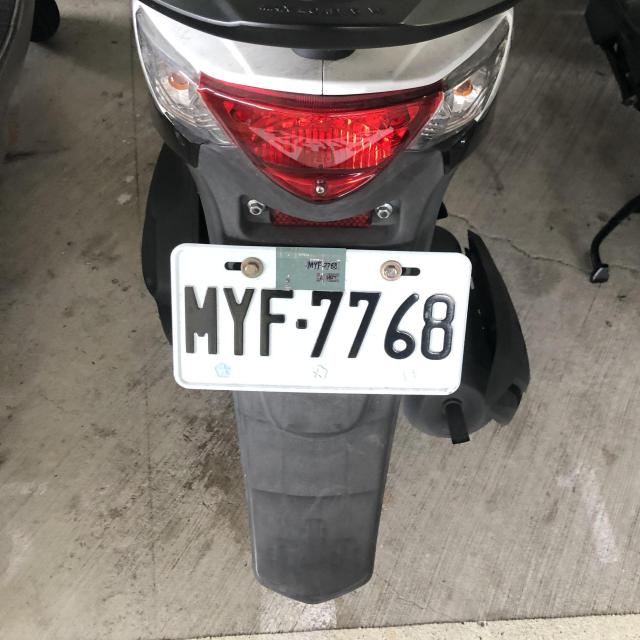W: (162, 242, 470, 398)
